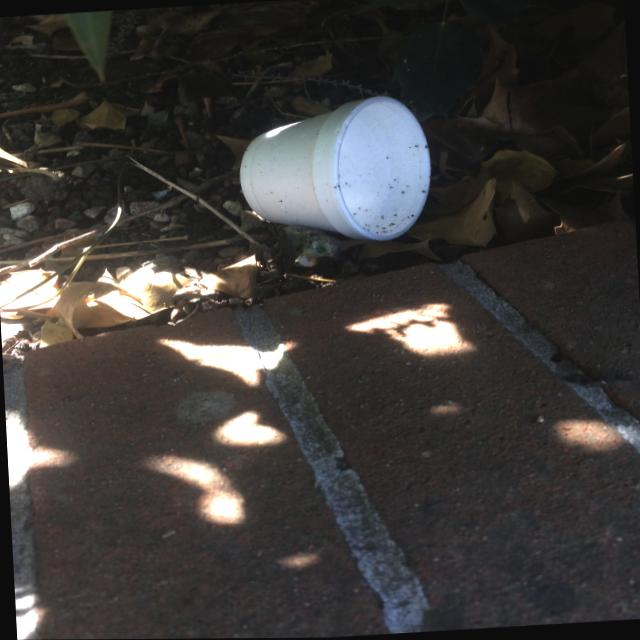Plastic: (220, 84, 462, 253)
